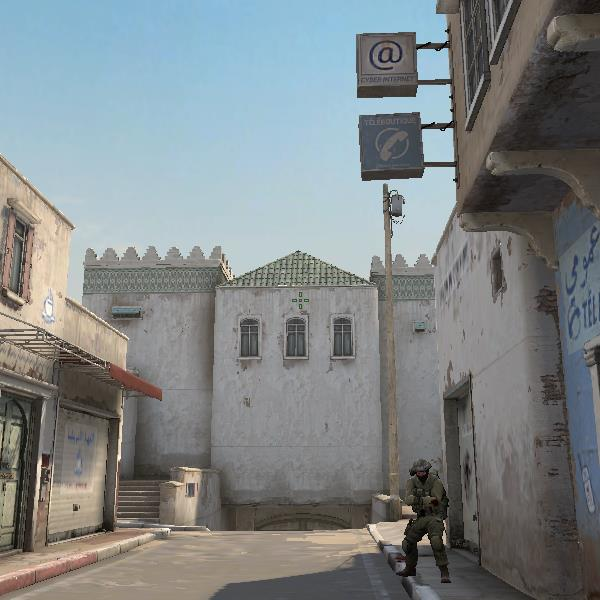ct_body: (382, 457, 453, 585)
ct_head: (407, 458, 432, 484)
